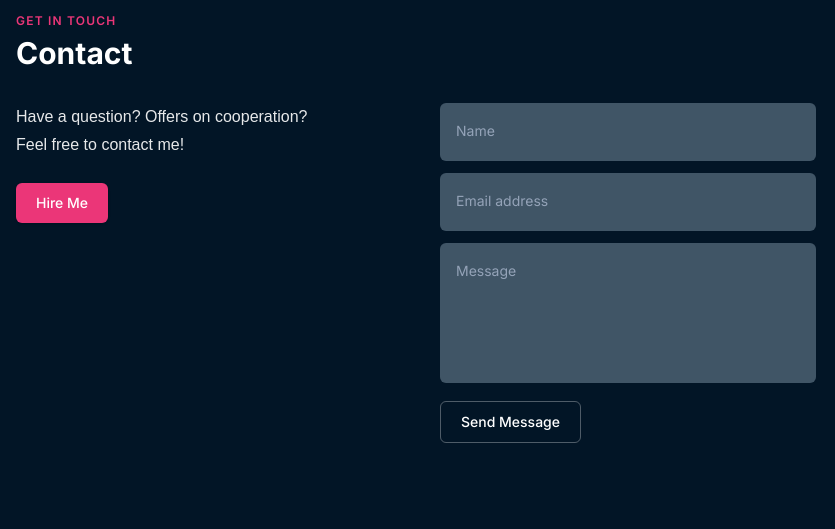
Test: ContactSection › shows error alert and preserves inputs on fetch failure
The image size is (835, 529).
Type "John Doe" into the field labelled "Name" at (628, 132), box [440,103,816,161]
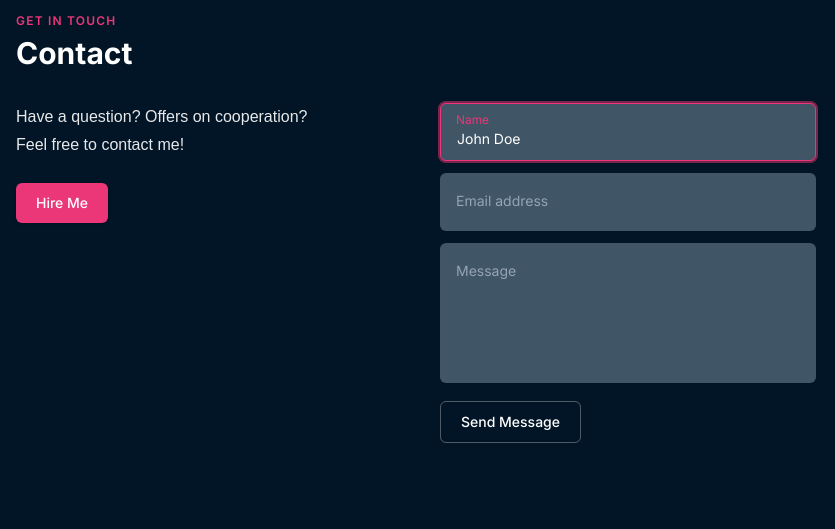
Type "john@example.com" into the field labelled "Email address" at (628, 202), box [440,173,816,231]
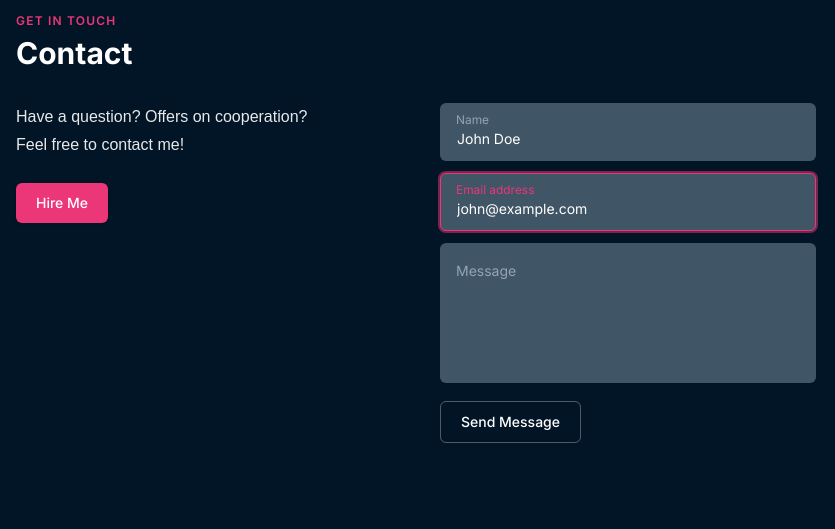
Type "Preserved message!" into the text box labelled "Message" at (628, 313), box [440,243,816,383]
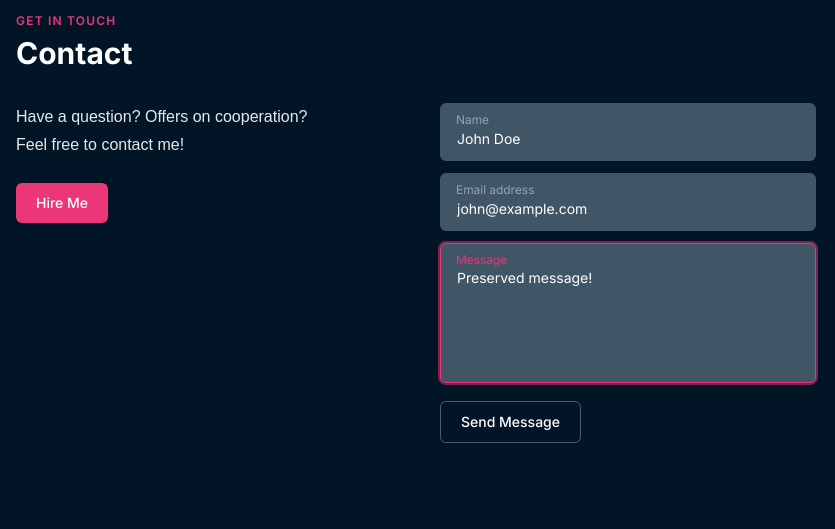
Click the button "Send Message" at (510, 422), box [440,401,581,443]
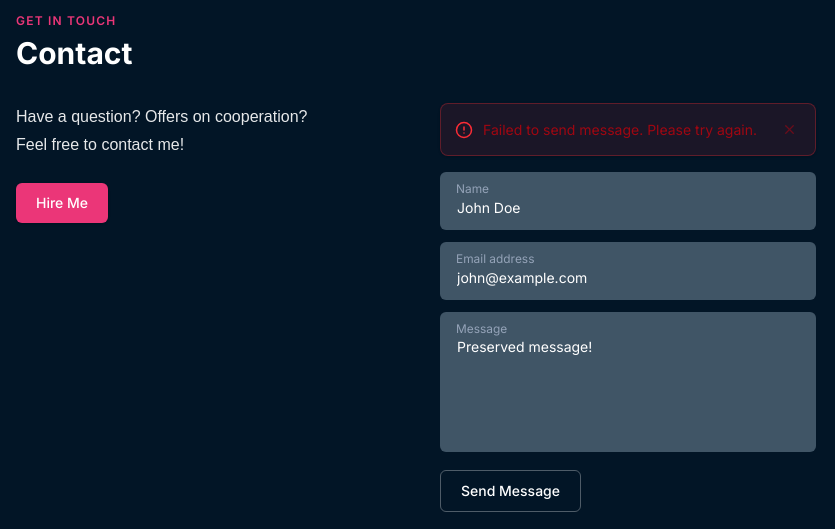
Check: the text "Failed to send message. Please try again." is shown, box [483,120,757,140]
